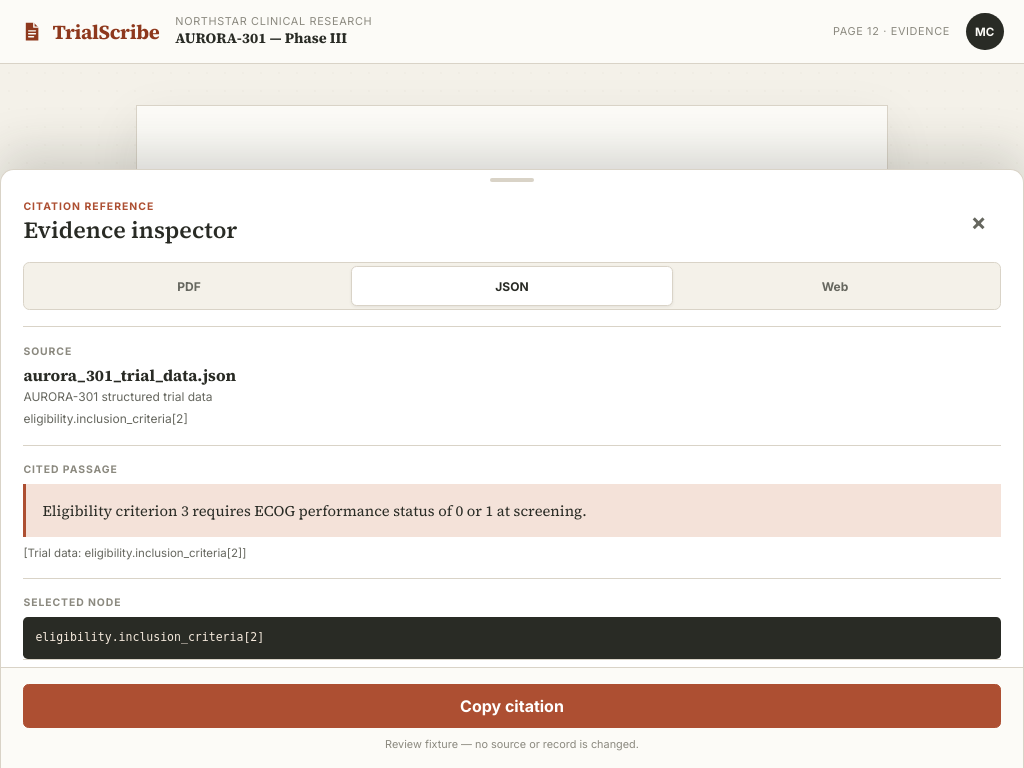
Test: EvidenceReviewPage › opens each evidence kind directly and switches tabs
Check: the text "eligibility.inclusion_criteria[2]" below "Selected node" is shown, box 35,630 -> 264,644
Click the tab "Web": (835, 286) 674,266 -> 996,306
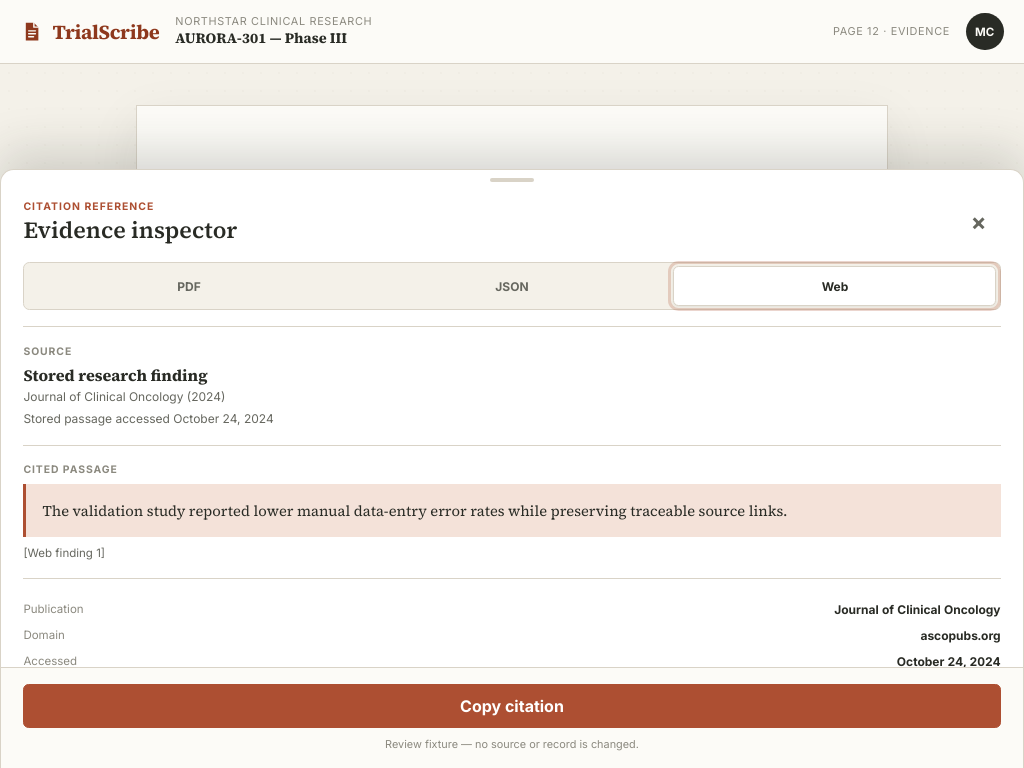
Check: the text "ascopubs.org" is shown, box 920,628 -> 1001,643
